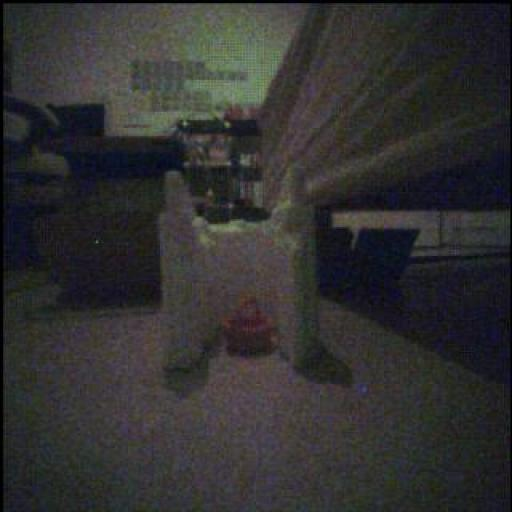basket: (224, 299, 277, 356)
